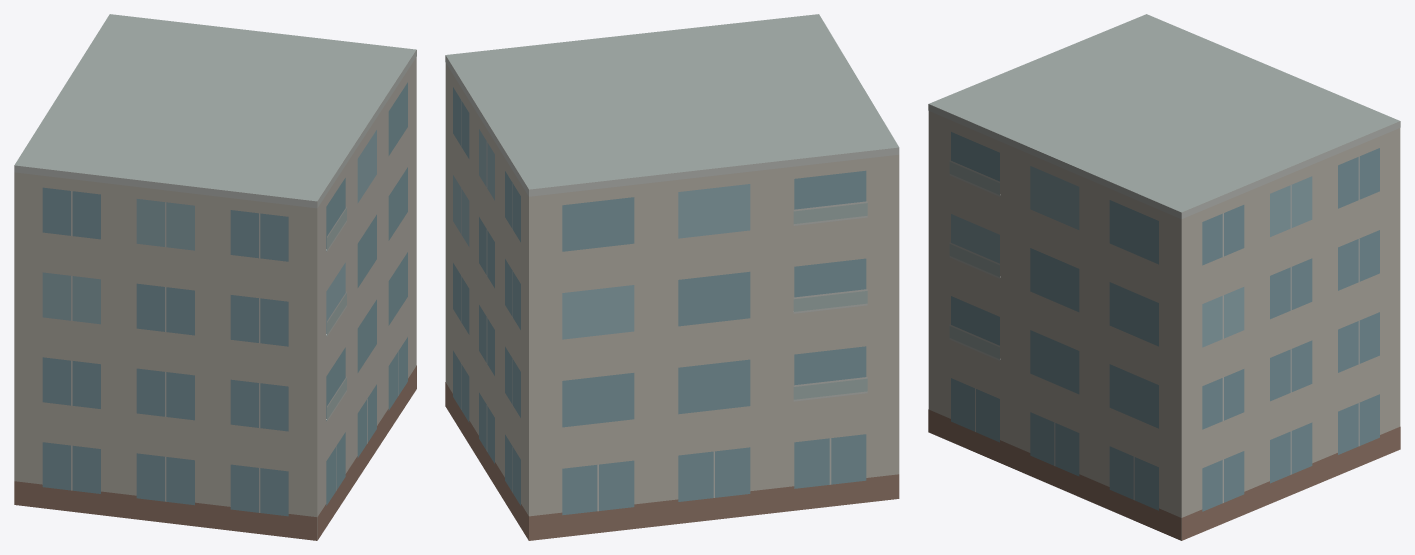
The model's file is survey-upis-32752087.glb.
3 views of the same model, side by side, from view 1: azimuth 30°, elevation 25°; view 2: azimuth 150°, elevation 25°; view 3: azimuth 270°, elevation 25° (orthographic). The views are drawn at different scales.
Visible parts, largest first — view 1: survey-upis-32752087.tmp; view 2: survey-upis-32752087.tmp; view 3: survey-upis-32752087.tmp.
Boxes of the visible parts, left/top/right/bottom form: survey-upis-32752087.tmp: left=14, top=14, right=416, bottom=540; survey-upis-32752087.tmp: left=445, top=14, right=899, bottom=540; survey-upis-32752087.tmp: left=928, top=14, right=1400, bottom=540.
Size of the model in its own units: 15.44 by 11.9 by 15.51.
